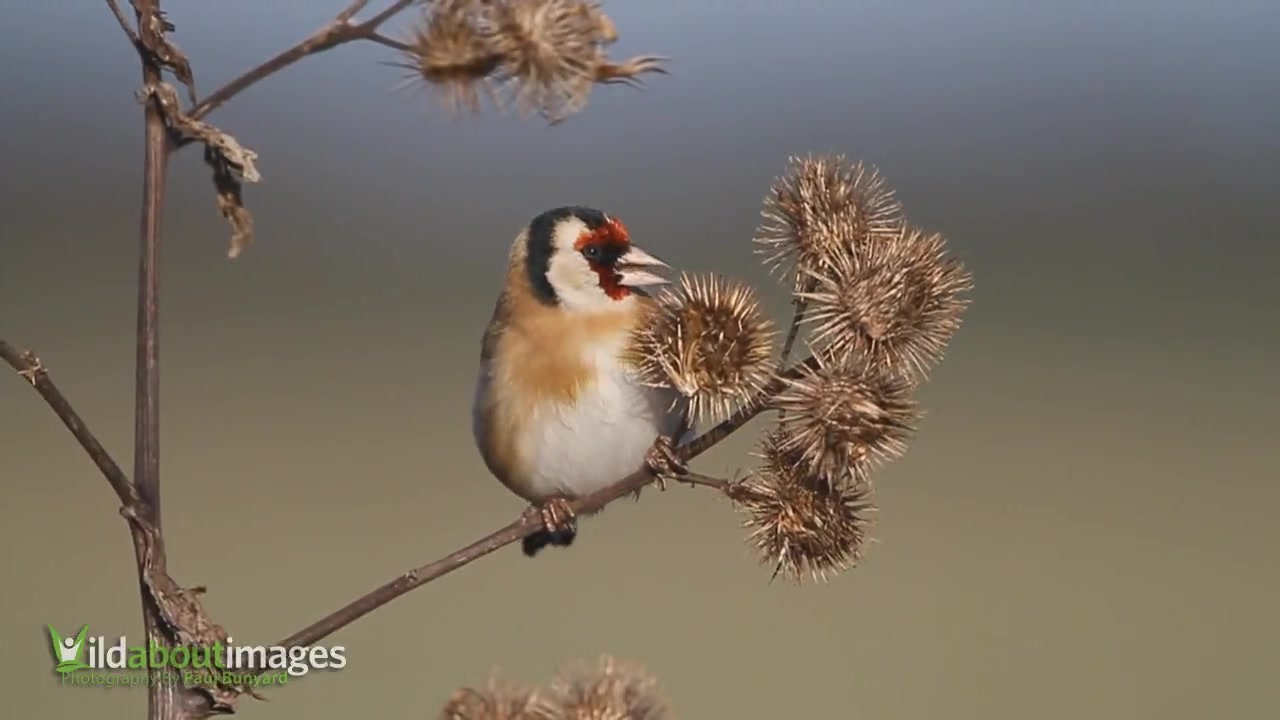bird: (472, 207, 694, 541)
